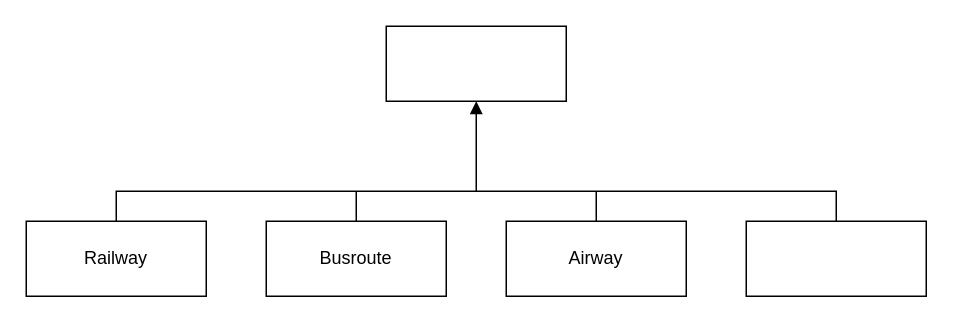
This 953x323 diagram has some shape labels left out. The centre of each missing label's shape, as x and y in pixels:
"Bicycleway" belongs at (835,258).
"Edge" belongs at (475,63).
